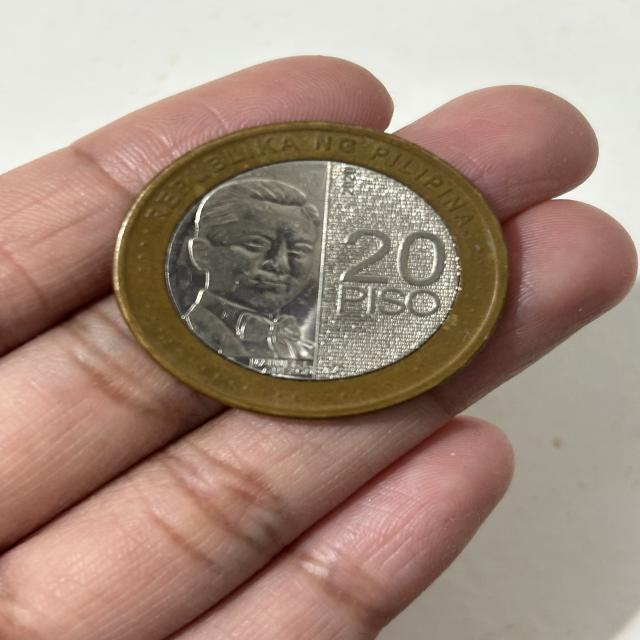20_New_Front: (328, 225, 455, 336)
